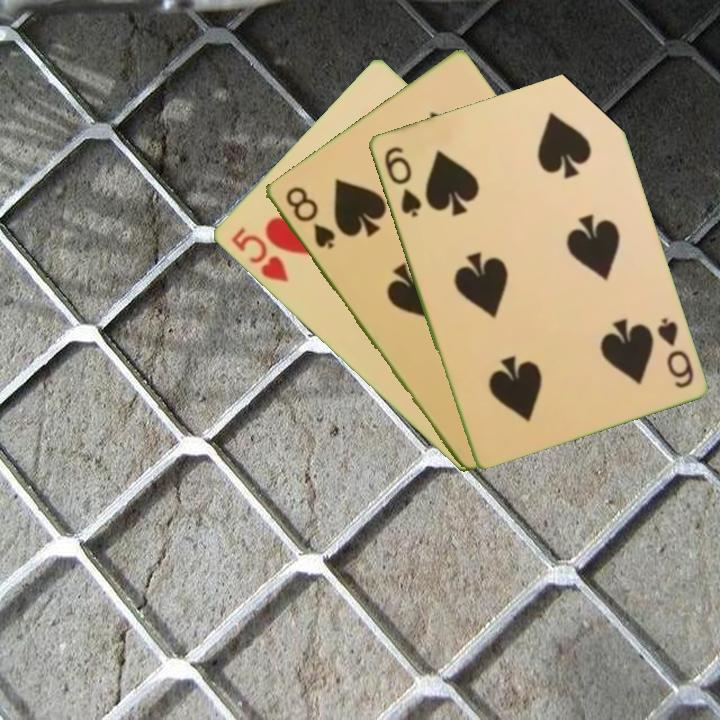5h: (226, 223, 292, 286)
6s: (380, 142, 424, 220), (652, 313, 696, 391)
8s: (281, 183, 338, 252)
